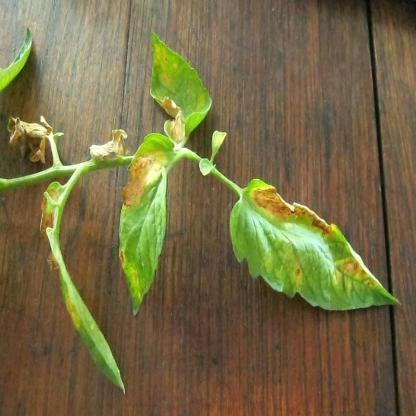Tomato Early blight leaf: (228, 180, 400, 324), (116, 125, 178, 323)
